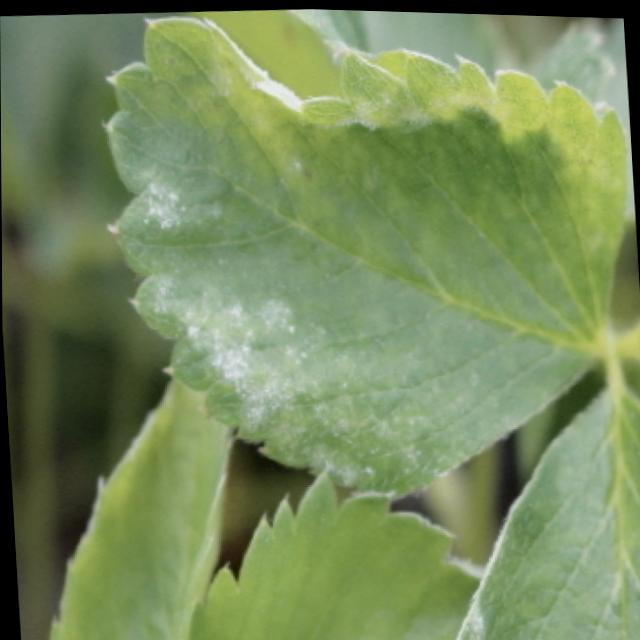Powdery Mildew Leaf: (99, 12, 634, 504), (454, 379, 640, 640)
